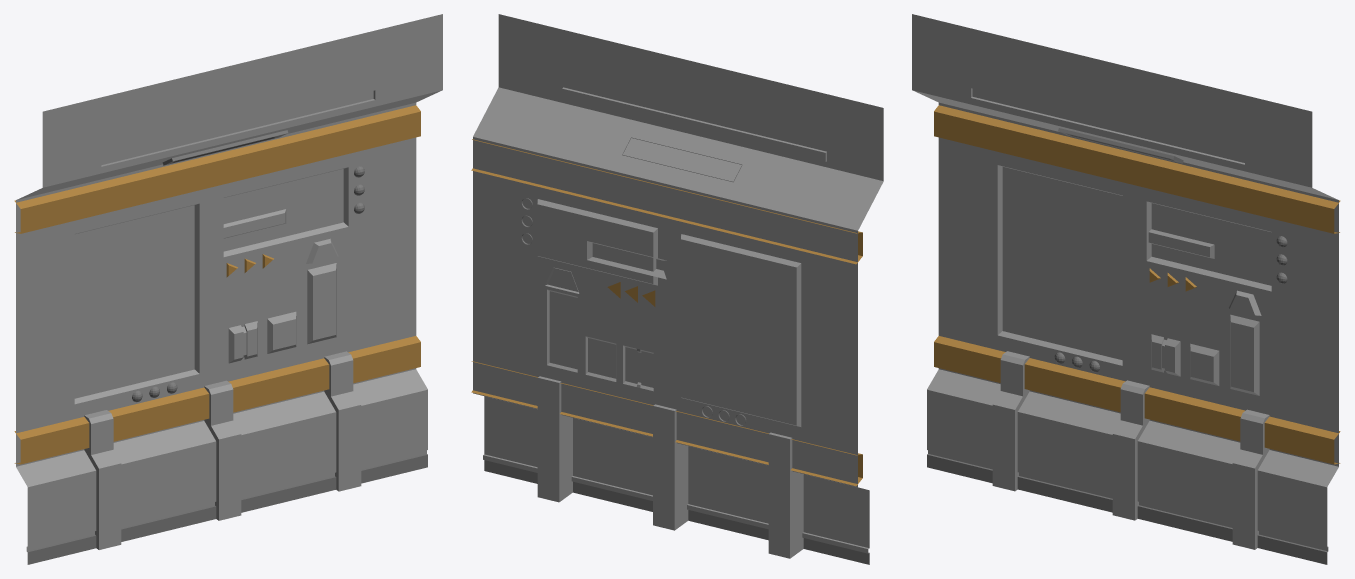
Rendered from Wall_1.fbx.
3 views of the same model, side by side, from view 1: azimuth 30°, elevation 25°; view 2: azimuth 150°, elevation 25°; view 3: azimuth 330°, elevation 25° (orthographic). The views are drawn at different scales.
Parts seen in each view (by area): view 1: Wall_1; view 2: Wall_1; view 3: Wall_1.
Boxes of the visible parts, x1,y1,x2,y2 form: Wall_1: (14, 14, 442, 564); Wall_1: (471, 14, 883, 564); Wall_1: (912, 14, 1340, 564).
Bounding box in the file's own units: 400 × 443 × 54.47.
